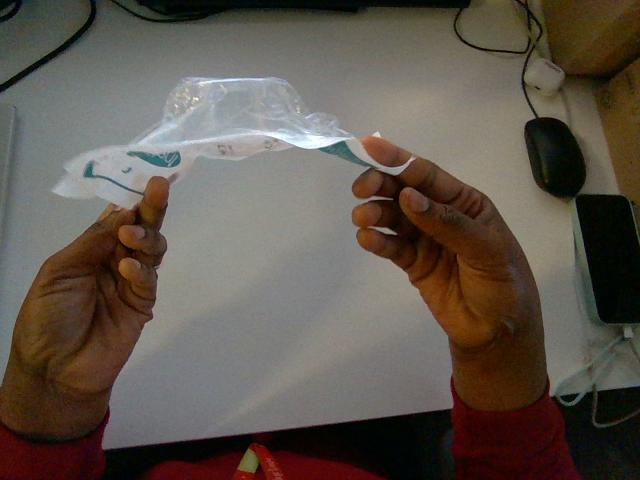gallipot: (53, 78, 410, 207)
